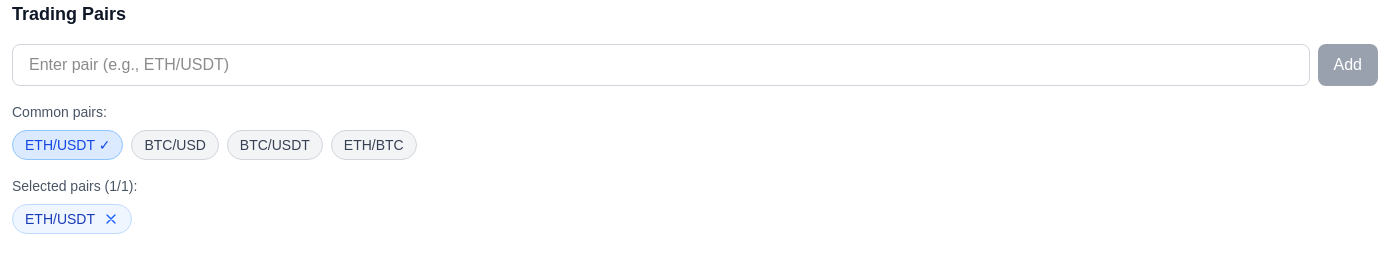
Test case: TradingPairSelector › Max Pairs Limit › should show error when max pairs reached
Type "BTC/USD" into the field with placeholder "Enter pair (e.g., ETH/USDT)".
click(661, 65); type("BTC/USD")  # box [12,44,1310,86]
Then press Enter
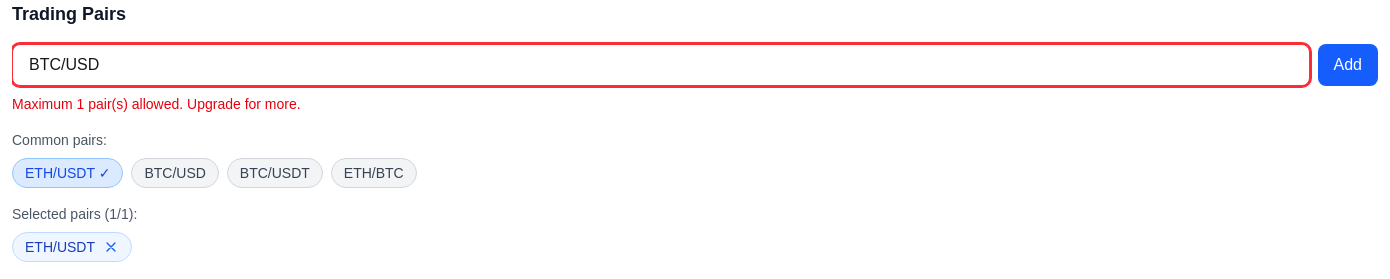
Result: the text "Maximum 1 pair(s) allowed. Upgrade for more." is shown at [12,96,301,112]
